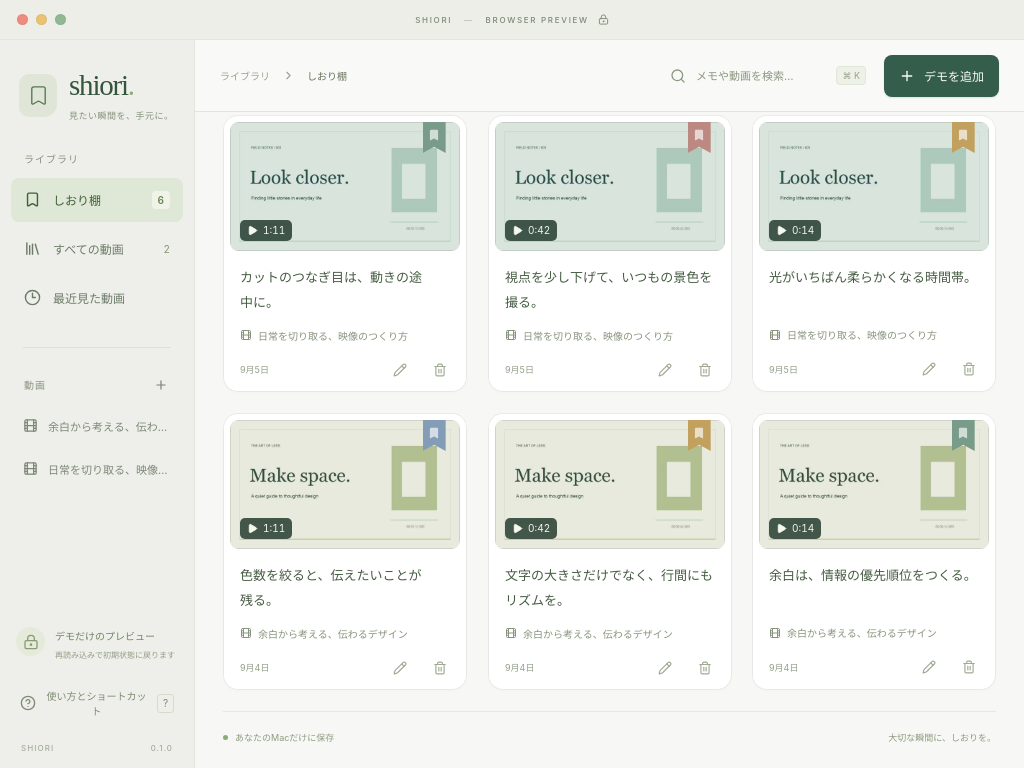
ライブラリの画面 › 動画が見つからなくても既存のしおりを保持して再指定を案内する
(page scrolled)
Click the button with aria-label "0:14から再生: 余白は、情報の優先順位をつくる。". click: coordinates (874, 530)
box: [759, 420, 989, 640]
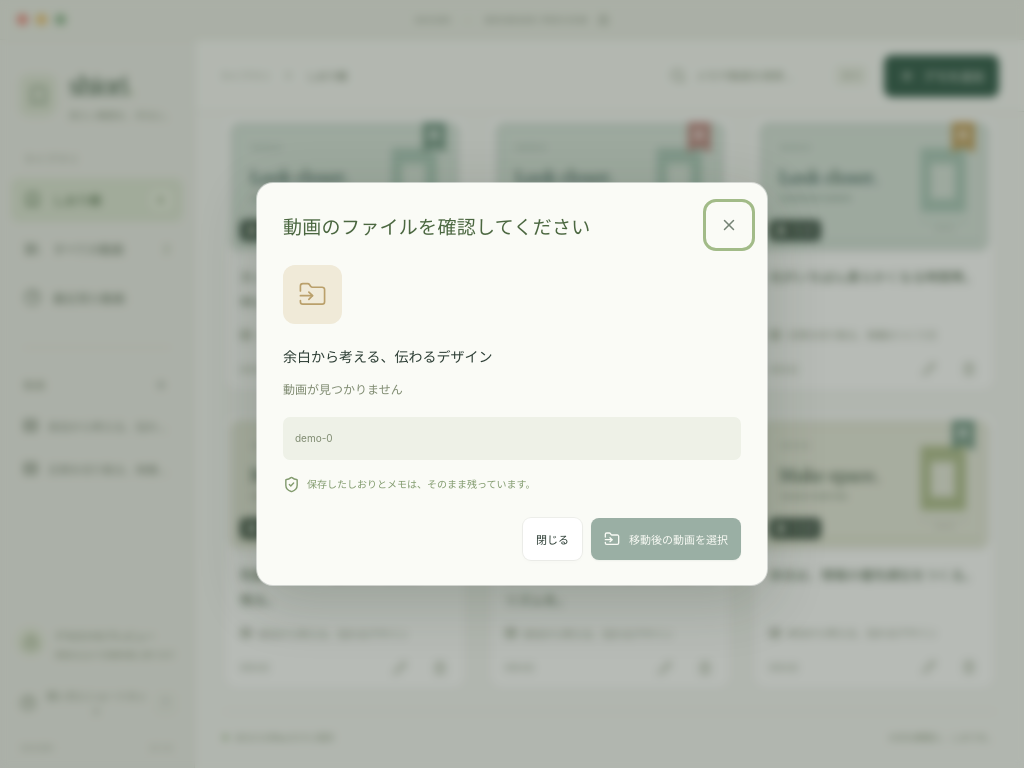
expect the dialog shows "保存したしおりとメモは、そのまま残っています。": met, box [307, 478, 536, 490]
